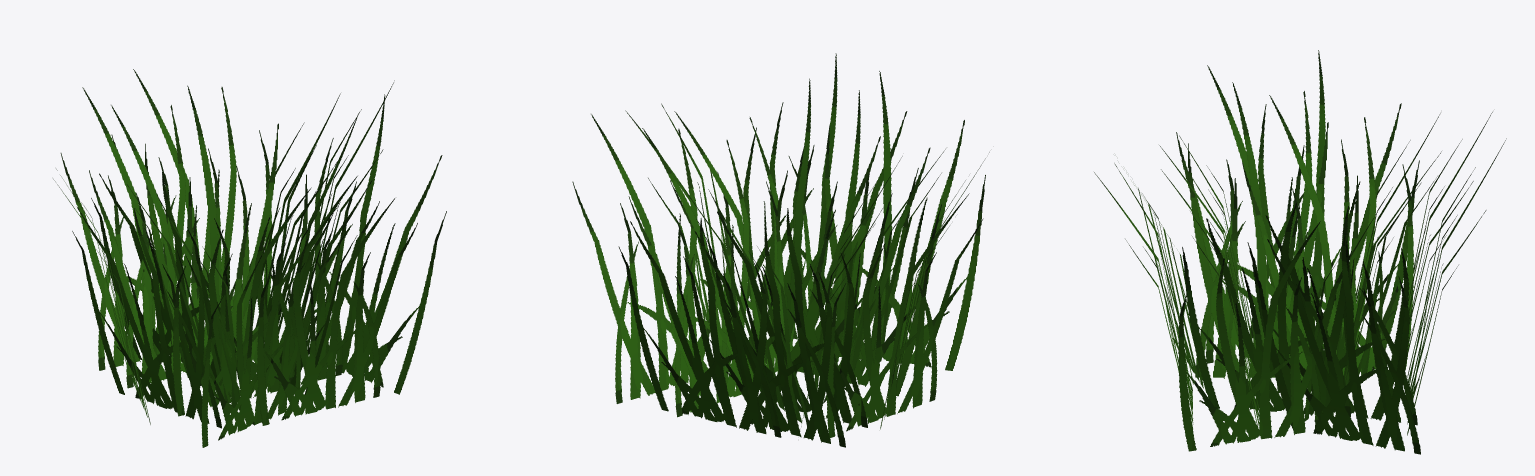
File: Beach Grass_preview_3DS_simplified.glb
The picture shows the model from 3 angles, left to right: view 1: azimuth 30°, elevation 25°; view 2: azimuth 150°, elevation 25°; view 3: azimuth 270°, elevation 25°; orthographic projection. The views are drawn at different scales.
Visible parts, largest first — view 1: Marine Park Empire model; view 2: Marine Park Empire model; view 3: Marine Park Empire model.
Part boxes in pixels (box(x1,y1,x2,y2)): Marine Park Empire model: box(53, 69, 446, 447); Marine Park Empire model: box(572, 53, 989, 447); Marine Park Empire model: box(1094, 50, 1506, 454).
Bounding box in the file's own units: 150 × 90.23 × 137.
Materials: 1 (1 with a texture image).
